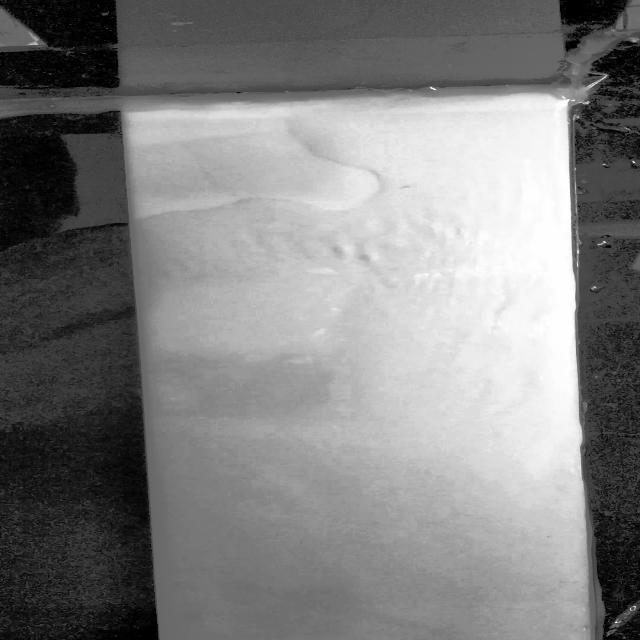shrimp: (173, 608, 213, 623)
